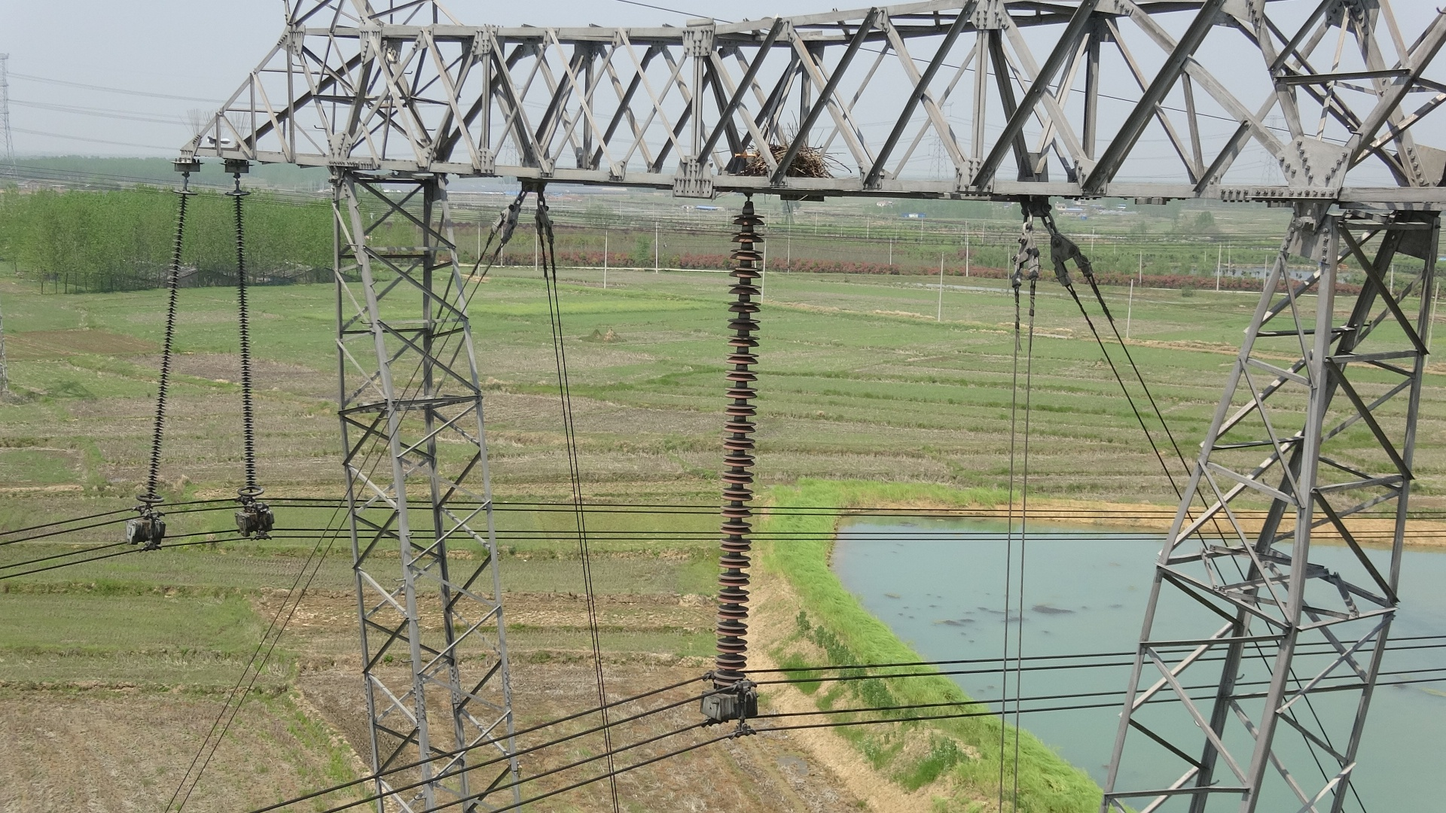insulator: (706, 213, 768, 691), (142, 190, 191, 496), (228, 196, 260, 490)
